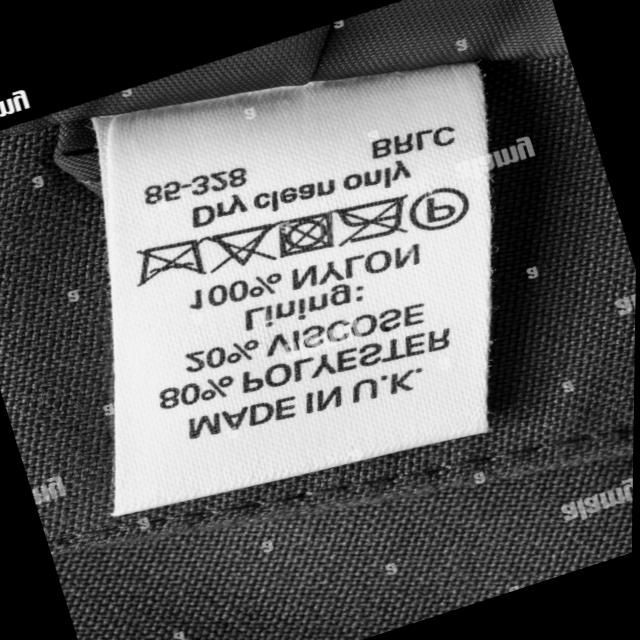DN_bleach: (213, 222, 275, 274)
DN_iron: (338, 194, 408, 248)
DN_tumble_dry: (279, 208, 335, 260)
DN_wash: (134, 235, 211, 289)
dry_clean_any_solvent_except_trichloroethylene: (408, 185, 473, 238)
